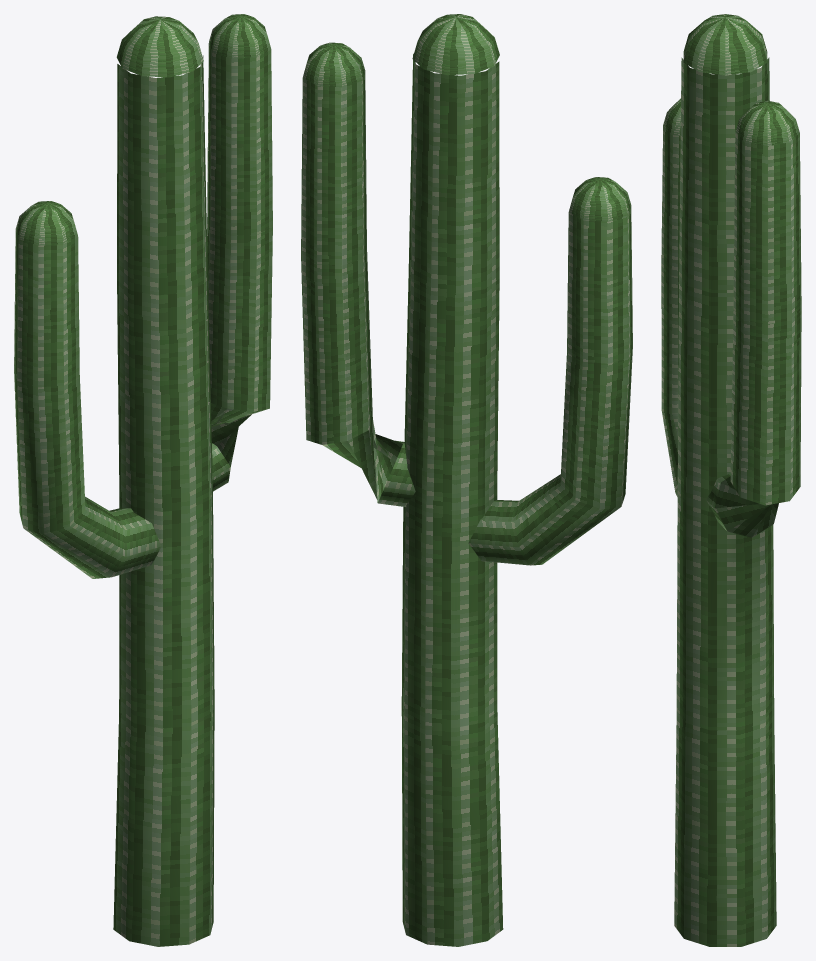
Rendered from saguaro.glb.
3 views of the same model, side by side, from view 1: azimuth 30°, elevation 25°; view 2: azimuth 150°, elevation 25°; view 3: azimuth 270°, elevation 25° (orthographic).
Visible parts, largest first — view 1: saguaro; view 2: saguaro; view 3: saguaro.
Boxes of the visible parts, box(x1,y1,x2,y2) form: saguaro: box(14, 14, 272, 946); saguaro: box(301, 14, 632, 946); saguaro: box(661, 14, 801, 946).
Size of the model in its own units: 1.67 by 5.03 by 0.7045.
Materials: 1 (1 with a texture image).
